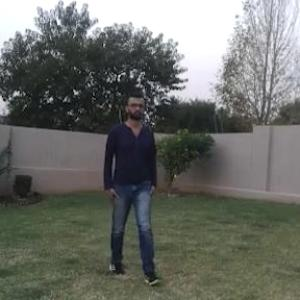follow: (110, 100, 157, 257)
